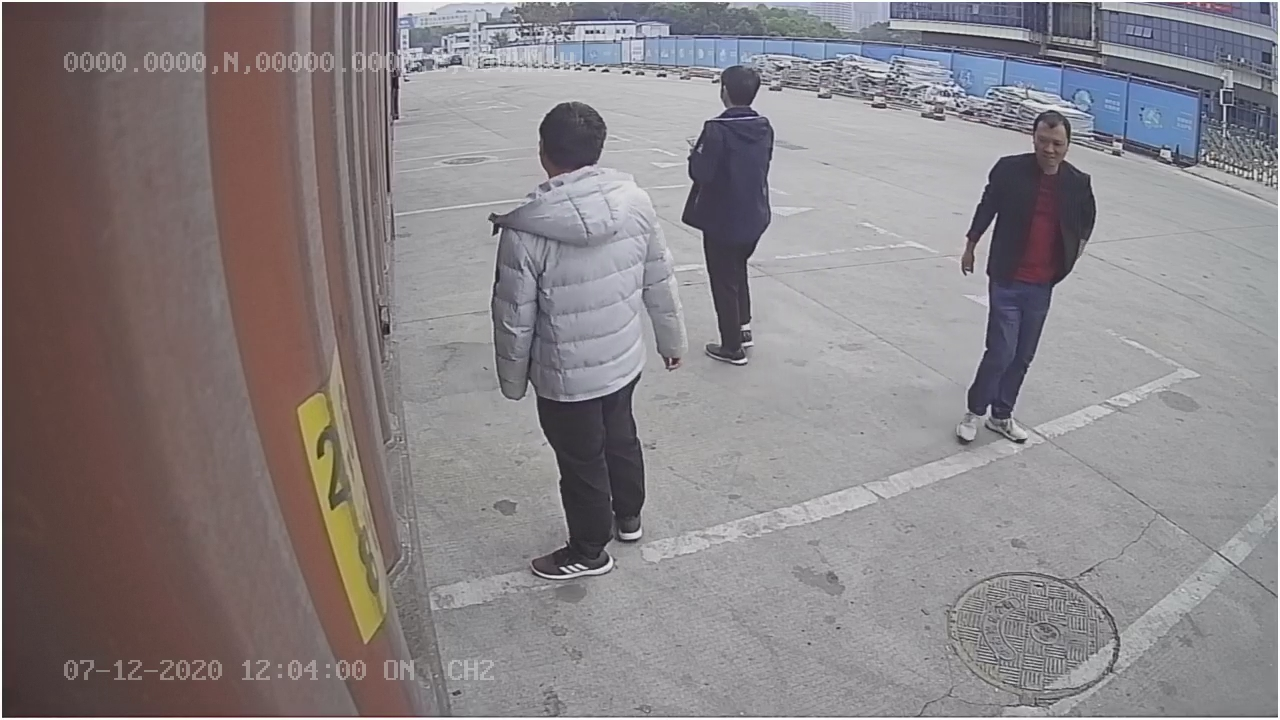person: (487, 85, 693, 578), (954, 107, 1094, 452)
